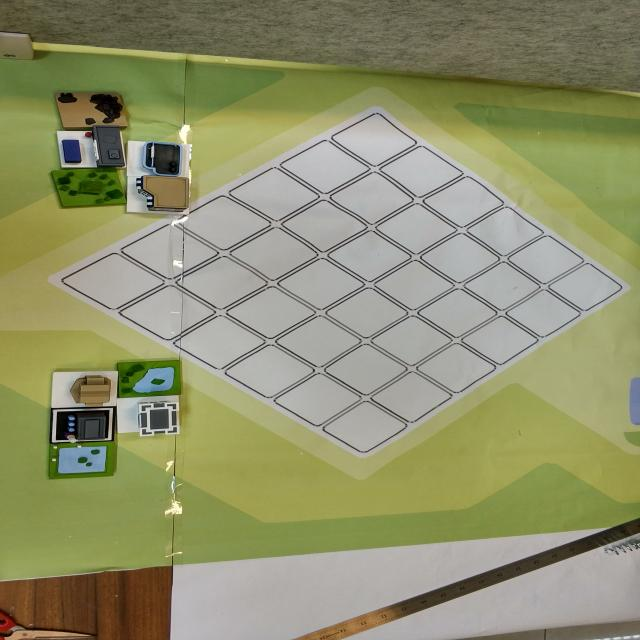bus_stop: (48, 126, 130, 172)
factory: (49, 409, 120, 447)
fish_pool: (47, 442, 117, 480)
forest: (51, 166, 129, 213)
gogo_shop: (125, 140, 197, 180)
research_build: (113, 396, 187, 438)
restaurant: (127, 173, 199, 217)
silicate_rock: (47, 89, 130, 130)
volunteer_center: (48, 368, 118, 411)
wet_land: (116, 358, 188, 399)
